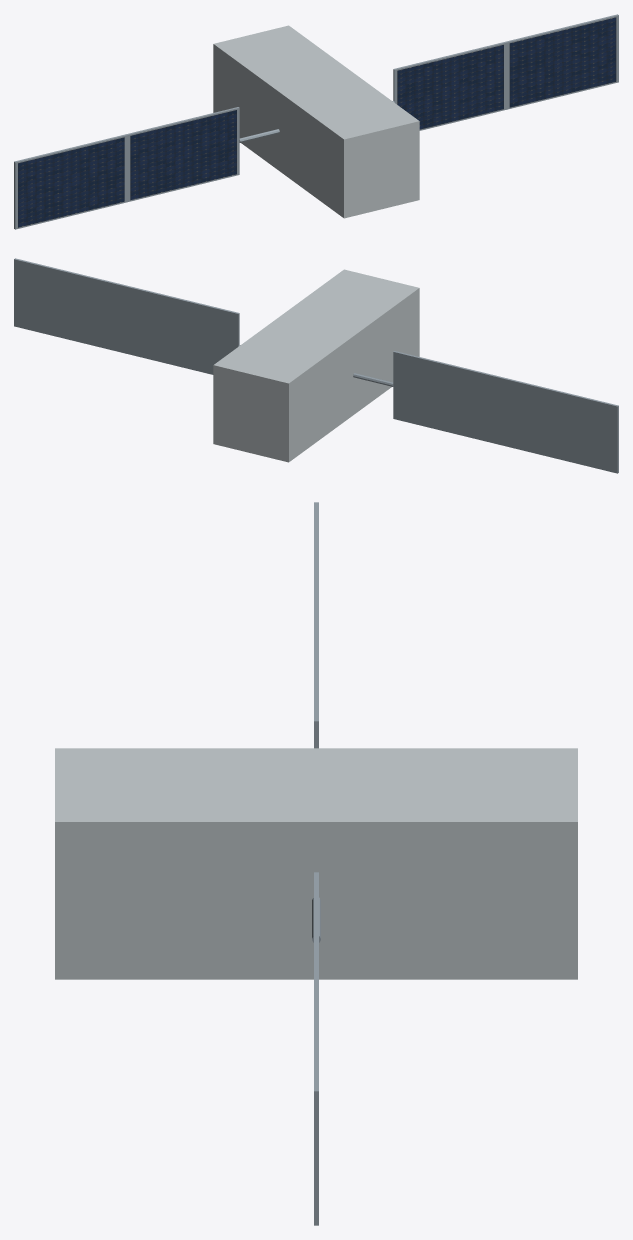
Rendered from ref-hongyun-43871.glb.
3 views of the same model, one above another, from view 1: azimuth 30°, elevation 25°; view 2: azimuth 150°, elevation 25°; view 3: azimuth 270°, elevation 25° (orthographic). The views are drawn at different scales.
Parts seen in each view (by area): view 1: Photovoltaic laminates (×4), Spacecraft body, Array frame (×4); view 2: Array frame (×4), Spacecraft body; view 3: Spacecraft body, Array frame.
Boxes of the visible parts, x1,y1,x2,y2 form: Photovoltaic laminates (×4): (18,17,616,227); Spacecraft body: (213,25,419,218); Array frame (×4): (14,14,618,229); Array frame (×4): (14,258,618,473); Spacecraft body: (213,269,419,462); Spacecraft body: (55,748,577,979); Array frame: (314,982,318,1225).
Bounding box in the file's own units: 4 × 0.5 × 1.5.
3 materials, 1 textured.
